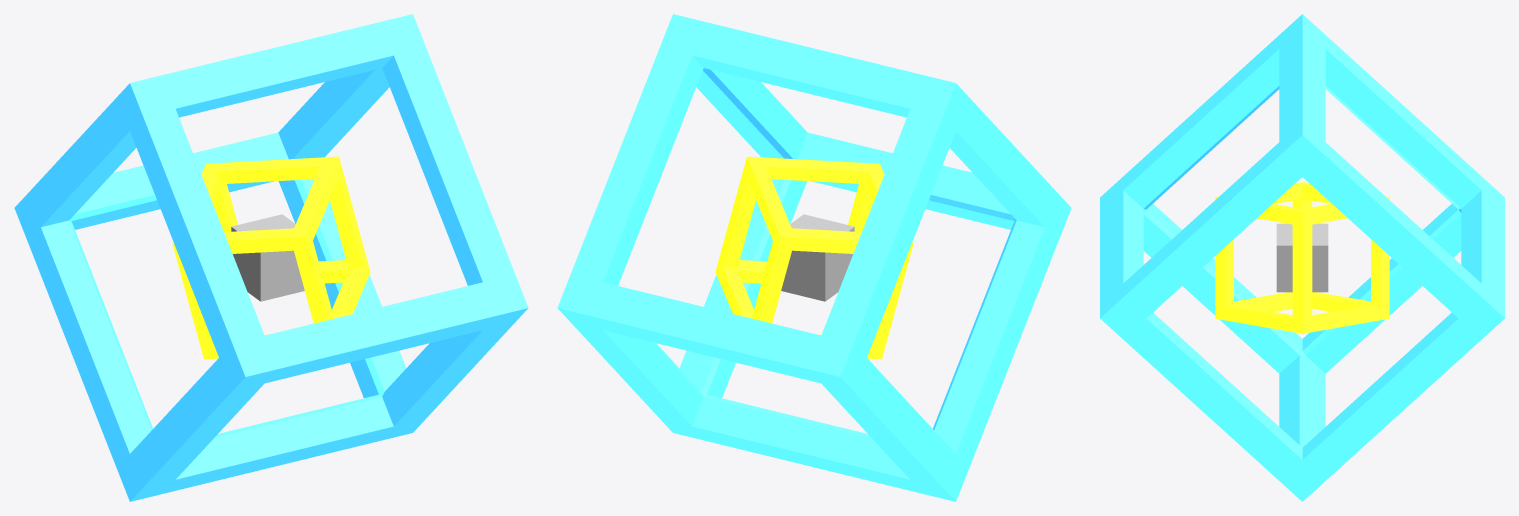
The model's file is decorative thingamajig 1.fbx.
3 views of the same model, side by side, from view 1: azimuth 30°, elevation 25°; view 2: azimuth 150°, elevation 25°; view 3: azimuth 270°, elevation 25° (orthographic). The views are drawn at different scales.
Parts seen in each view (by area): view 1: Thingamajig 1, Thingamajig 1.001, Thingamajig 1.002; view 2: Thingamajig 1, Thingamajig 1.001, Thingamajig 1.002; view 3: Thingamajig 1, Thingamajig 1.001, Thingamajig 1.002.
Part boxes in pixels (x1=…): Thingamajig 1: x1=14, y1=14, x2=528, y2=501; Thingamajig 1.001: x1=172, y1=156, x2=370, y2=359; Thingamajig 1.002: x1=231, y1=214, x2=304, y2=301; Thingamajig 1: x1=557, y1=14, x2=1071, y2=501; Thingamajig 1.001: x1=715, y1=156, x2=913, y2=359; Thingamajig 1.002: x1=781, y1=214, x2=854, y2=301; Thingamajig 1: x1=1100, y1=14, x2=1504, y2=501; Thingamajig 1.001: x1=1215, y1=182, x2=1389, y2=333; Thingamajig 1.002: x1=1276, y1=223, x2=1328, y2=292.
Size of the model in its own units: 200 by 283 by 283.
